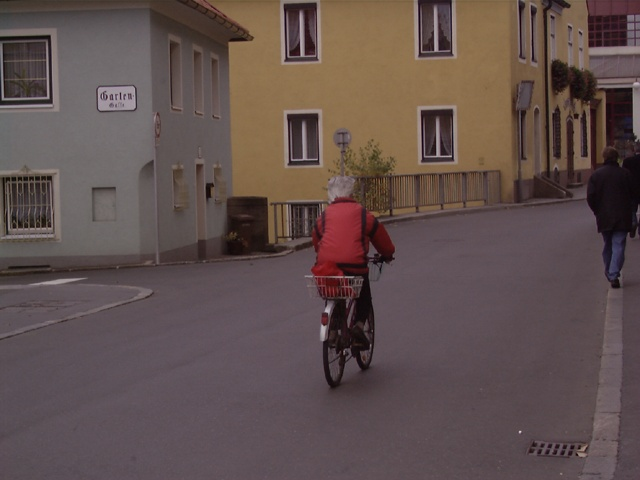person: (311, 176, 394, 366)
